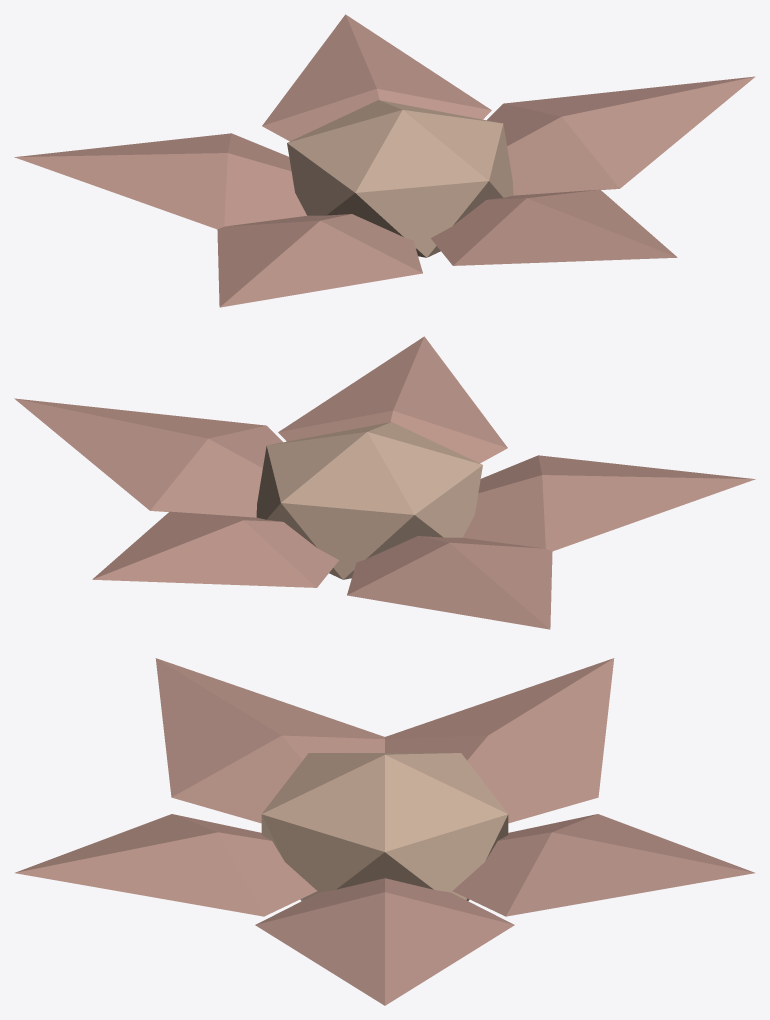
File: map-exclusive-v3__tide_11.glb
3 renders of one model, top to bottom at view 1: azimuth 30°, elevation 25°; view 2: azimuth 150°, elevation 25°; view 3: azimuth 270°, elevation 25°, orthographic. The views are drawn at different scales.
Parts seen in each view (by area): view 1: tide_11; view 2: tide_11; view 3: tide_11.
Part boxes in pixels (x1=…): tide_11: x1=14, y1=14, x2=755, y2=307; tide_11: x1=14, y1=336, x2=755, y2=629; tide_11: x1=15, y1=658, x2=754, y2=1005.
Bounding box in the file's own units: 1.65 × 0.34 × 1.48.
